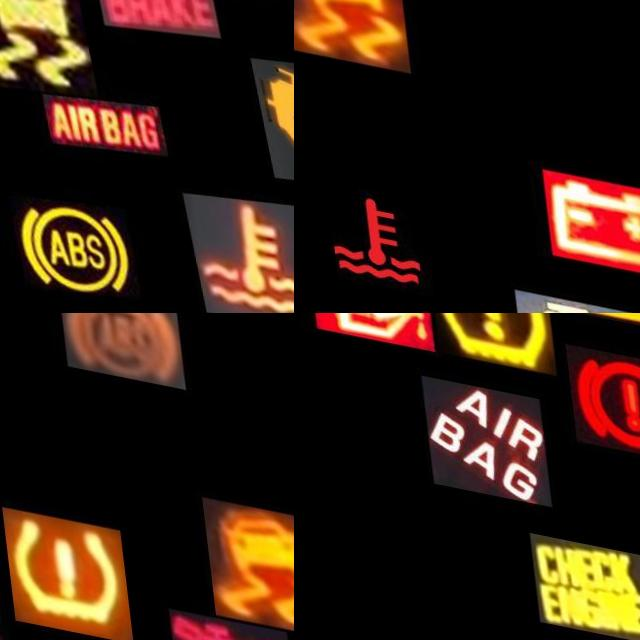Engine cooling system: (171, 164, 294, 311), (301, 167, 430, 304)
